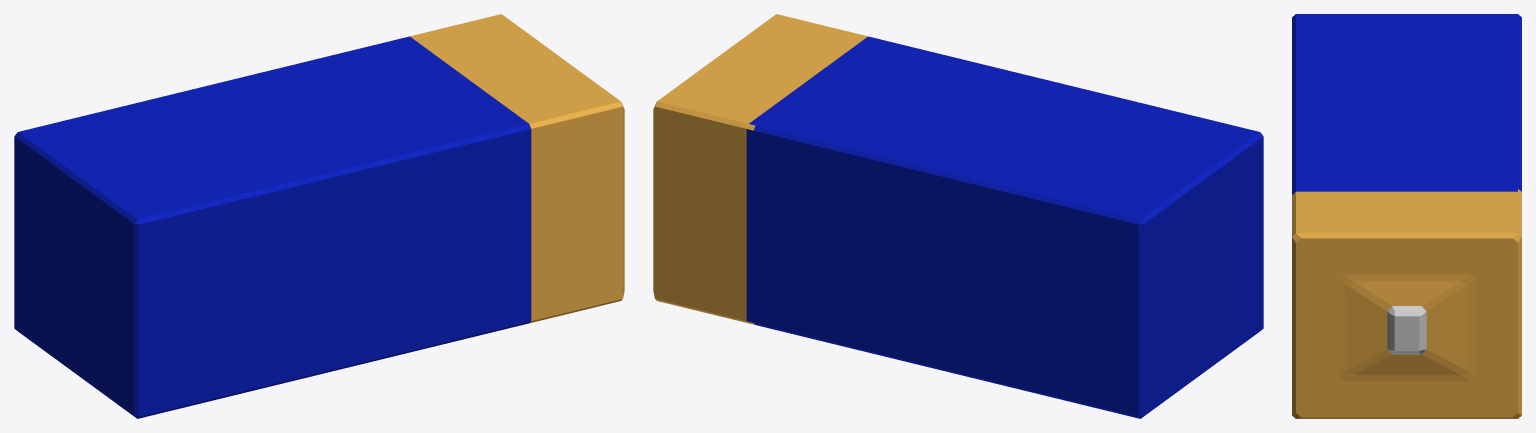
The model's file is battery_part_blue.dae.
3 renders of one model, left to right at view 1: azimuth 30°, elevation 25°; view 2: azimuth 150°, elevation 25°; view 3: azimuth 270°, elevation 25°, orthographic. The views are drawn at different scales.
Parts seen in each view (by area): view 1: BATTERY; view 2: BATTERY; view 3: BATTERY.
Boxes of the visible parts, x1,y1,x2,y2 form: BATTERY: [14, 14, 624, 418]; BATTERY: [653, 14, 1263, 418]; BATTERY: [1292, 14, 1521, 418].
Bounding box in the file's own units: 0.1408 × 0.0598 × 0.0533.
